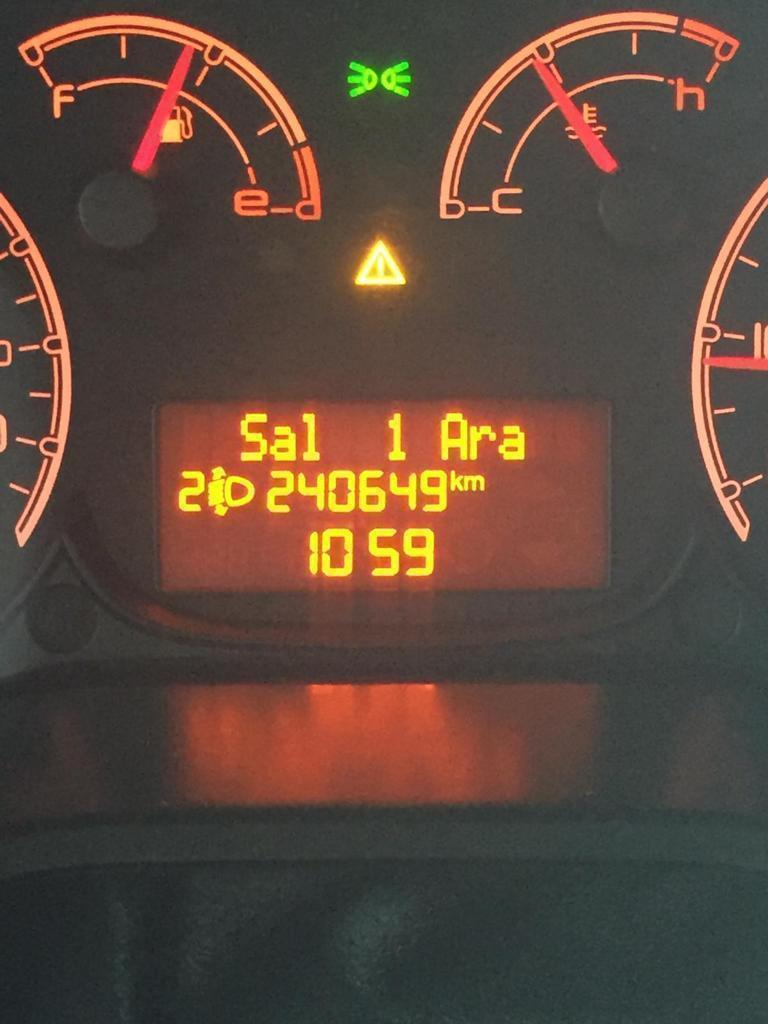0: (320, 526, 354, 578), (327, 467, 355, 513)
1: (386, 407, 411, 462), (307, 527, 320, 580)
2: (263, 468, 294, 515), (176, 468, 205, 514)
4: (296, 468, 326, 512), (388, 469, 417, 510)
5: (366, 525, 401, 578)
6: (359, 468, 387, 512)
9: (403, 526, 434, 578), (419, 468, 446, 515)
X: (240, 412, 270, 462), (439, 412, 468, 461), (497, 423, 525, 461), (468, 423, 496, 461), (300, 409, 320, 462), (270, 424, 297, 462), (464, 473, 485, 492), (450, 469, 463, 492)
odometer: (150, 390, 624, 605)
